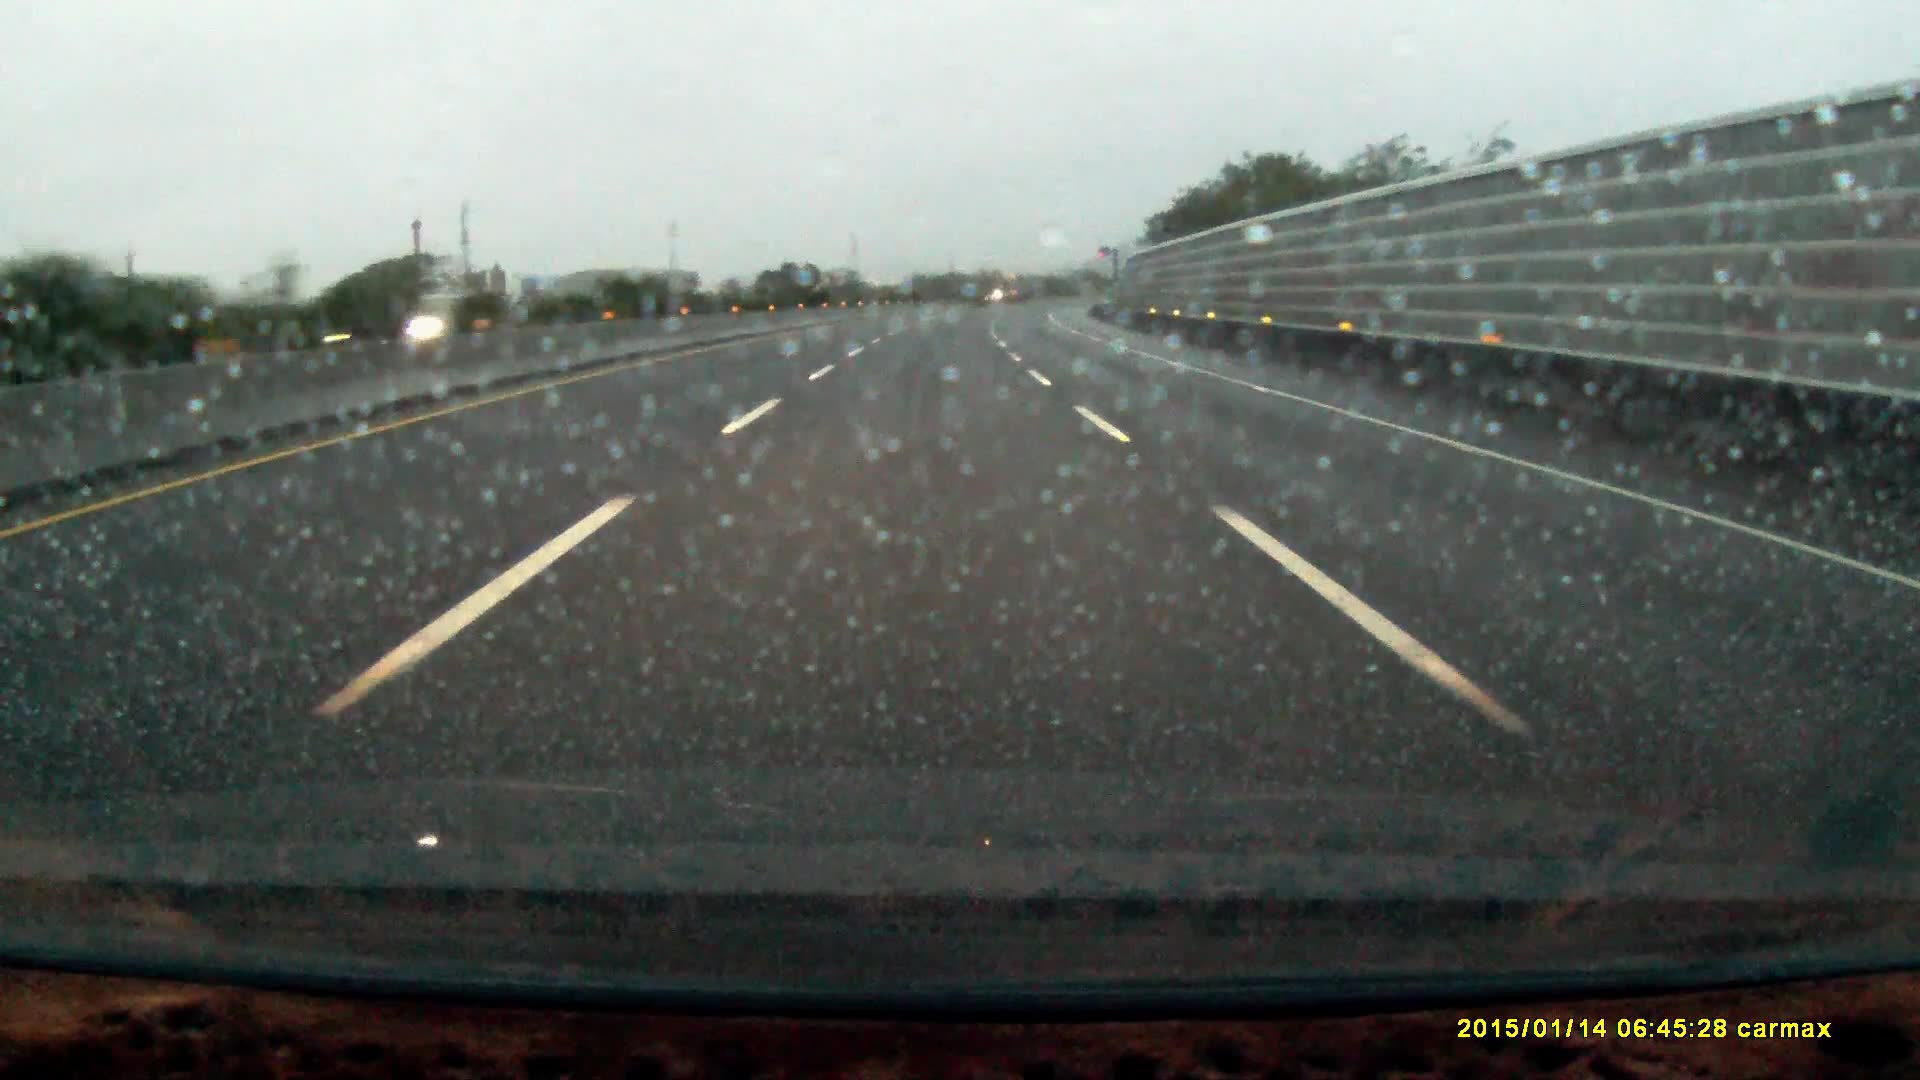vehicle: (334, 309, 429, 345)
